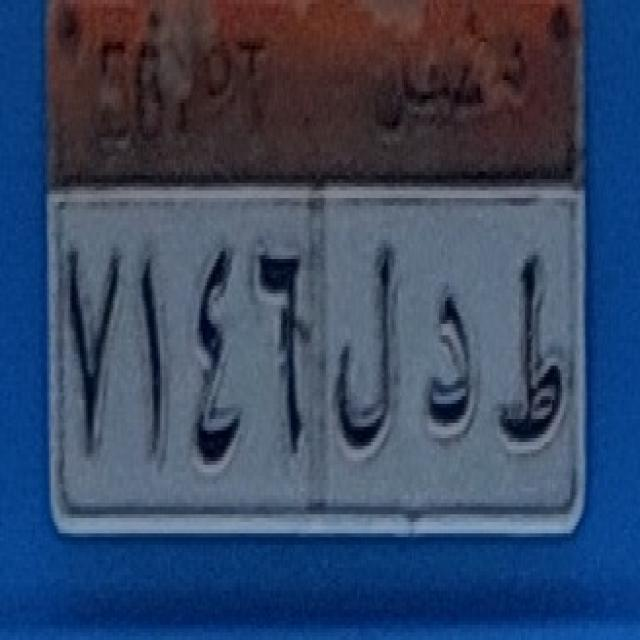1: (120, 244, 178, 476)
4: (181, 238, 251, 476)
6: (256, 234, 321, 458)
7: (51, 238, 130, 470)
Laam: (330, 237, 403, 470)
Taa: (492, 252, 572, 459)
daal: (416, 264, 479, 448)
